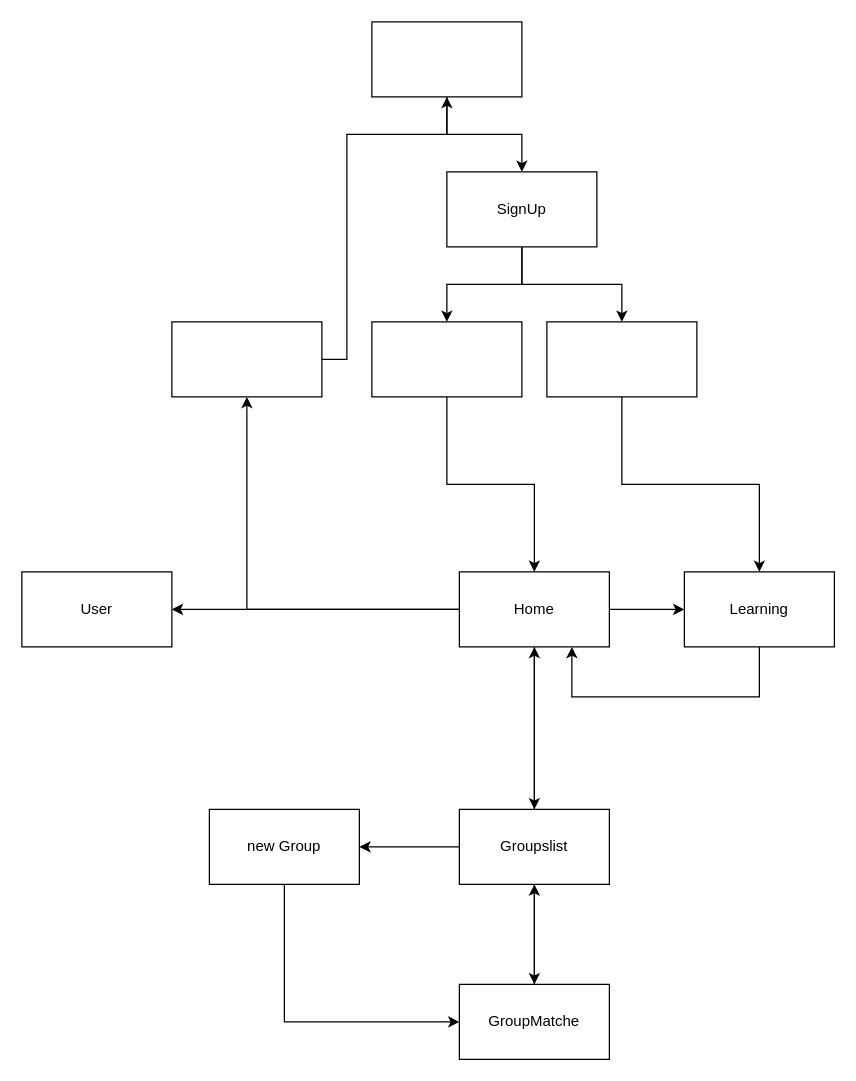
This 856x1081 diagram has some shape labels left out. The box of each missing label's shape, as (x1, y1, x2, y2) in pixels:
Login: (371, 321, 522, 397)
Logout: (171, 321, 322, 397)
Register: (546, 321, 697, 397)
Startseite: (371, 21, 522, 97)
